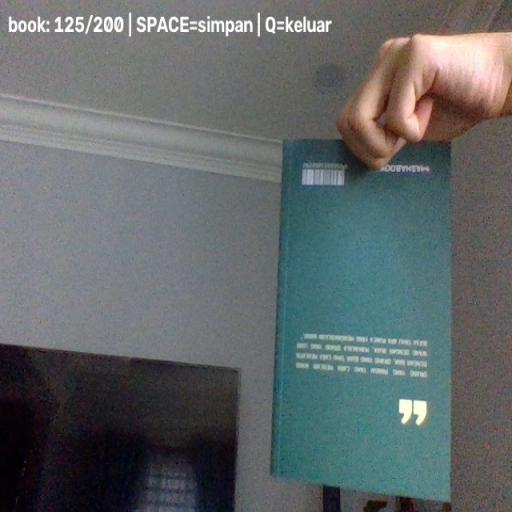Book: (270, 138, 454, 502)
